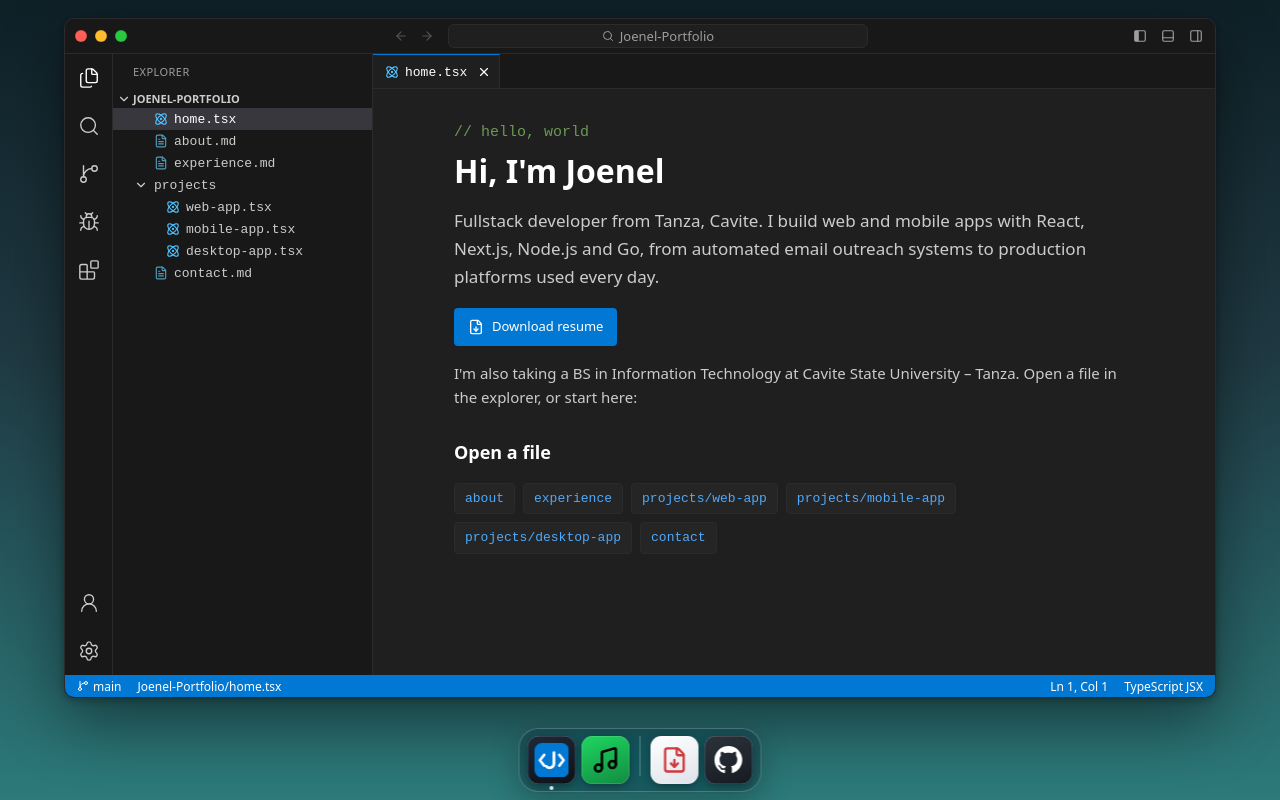
EditorWindow (desktop) › Explorer icon toggles the sidebar
Click the button named "Explorer" at (88,78), box left=64, top=54, right=112, bottom=102
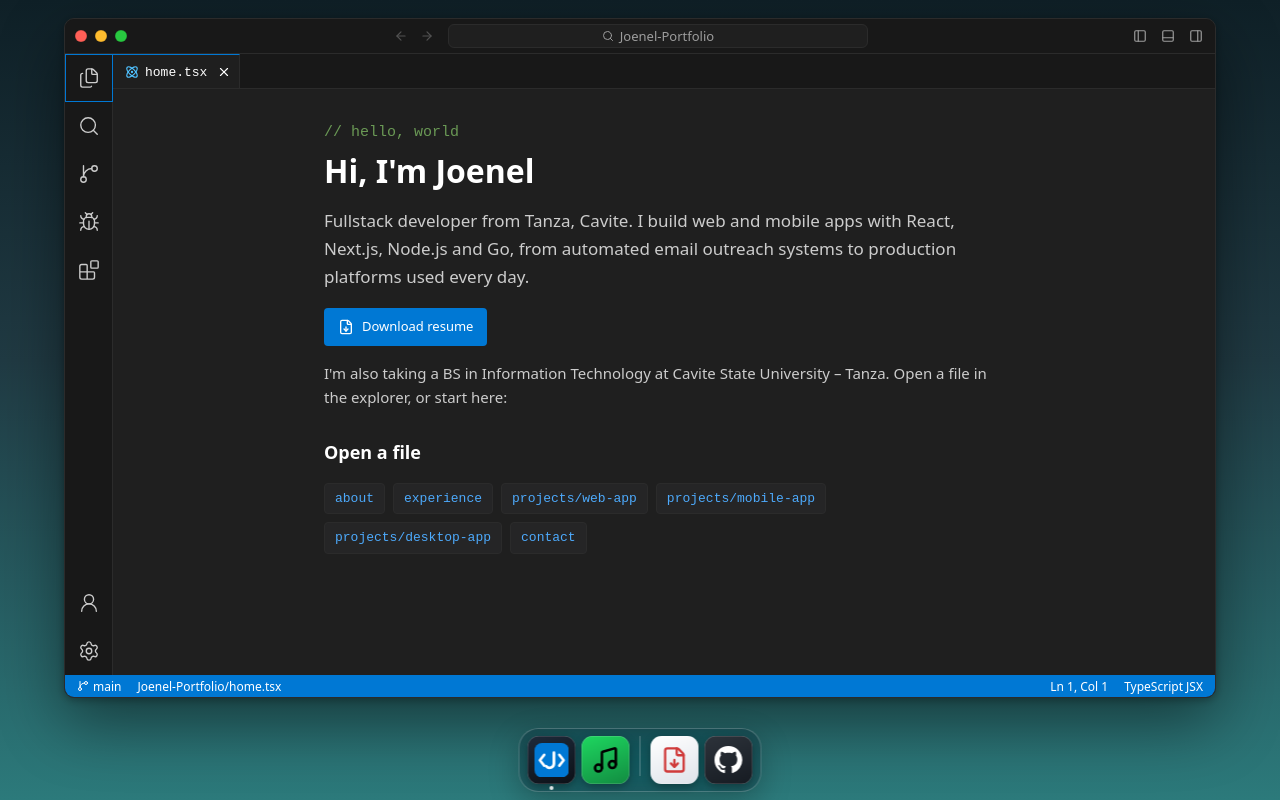
Click the button named "Explorer" at (88,78), box left=64, top=54, right=112, bottom=102
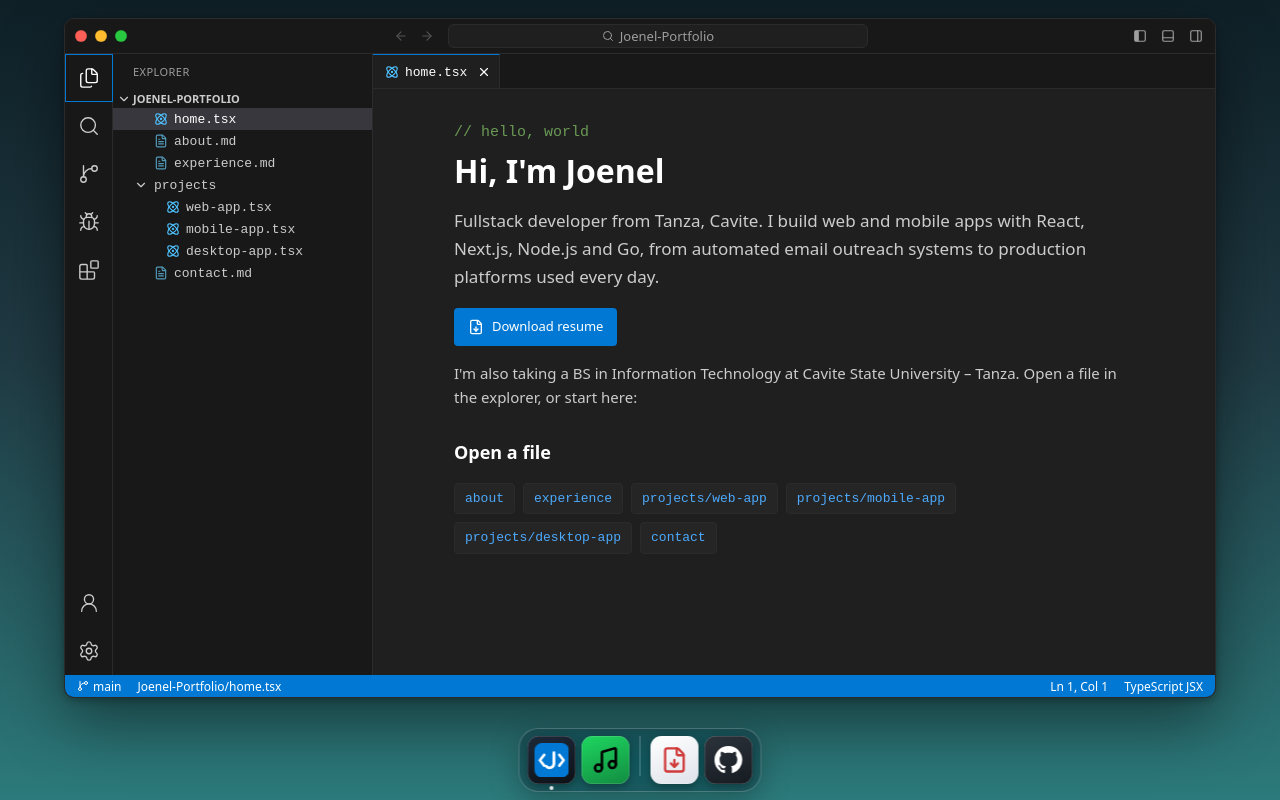
expect the list named "Joenel-Portfolio" is shown: met, box left=113, top=108, right=372, bottom=284
